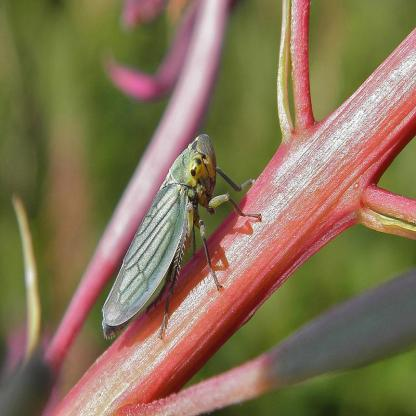Green-Leafhopper: (101, 134, 270, 341)
